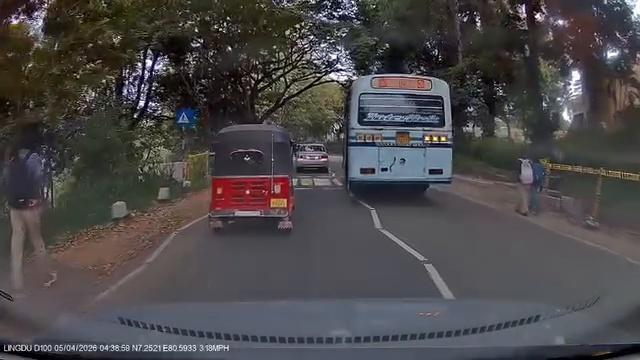illegal overtaking: (346, 68, 479, 207)
